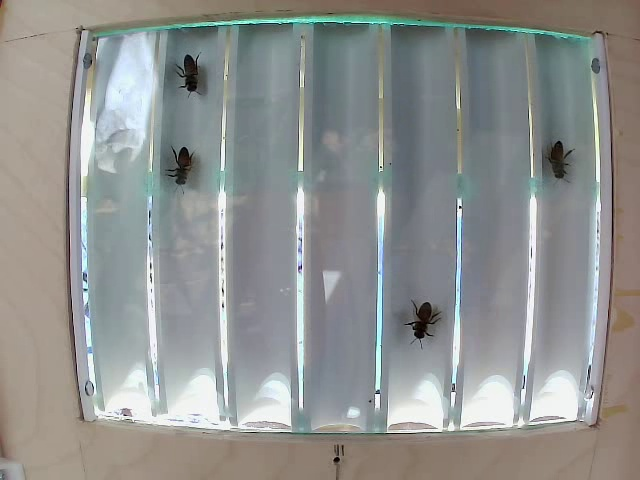bee: (404, 292, 460, 351), (165, 47, 215, 100), (549, 129, 581, 194), (159, 142, 194, 175)
